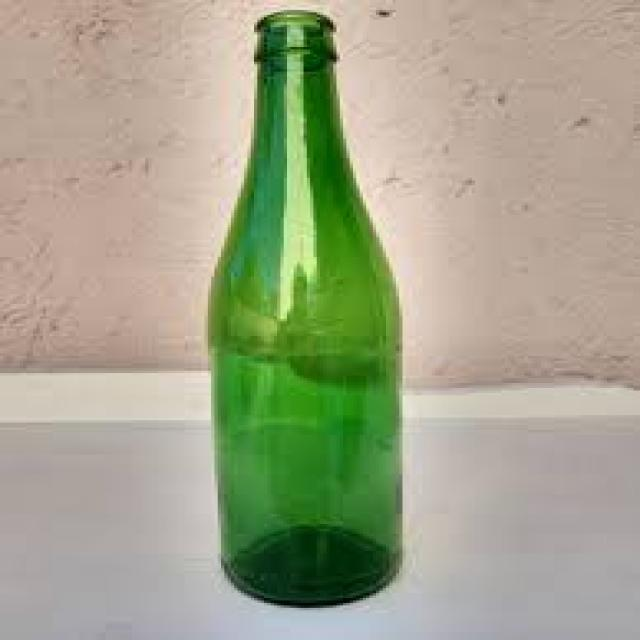glass: (208, 7, 402, 608)
